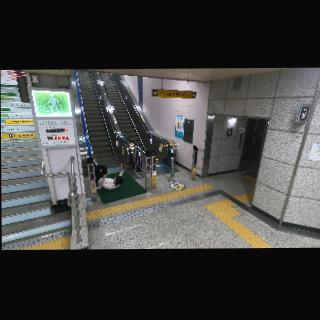anomaly: (90, 156, 125, 192)
